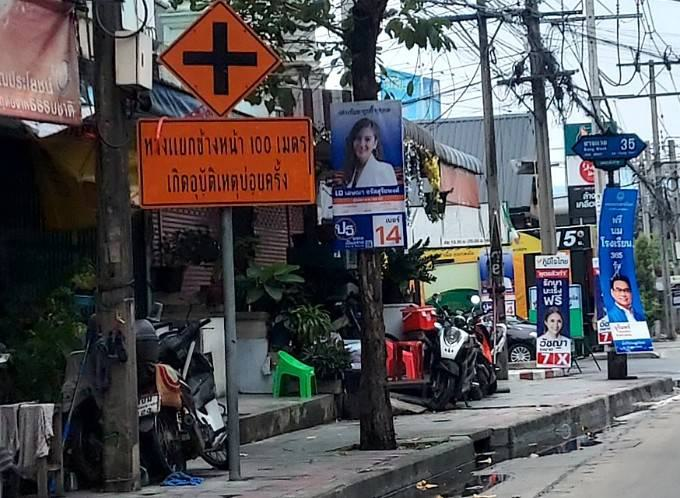Banner: (327, 97, 404, 265), (587, 185, 651, 369), (527, 251, 572, 382)
